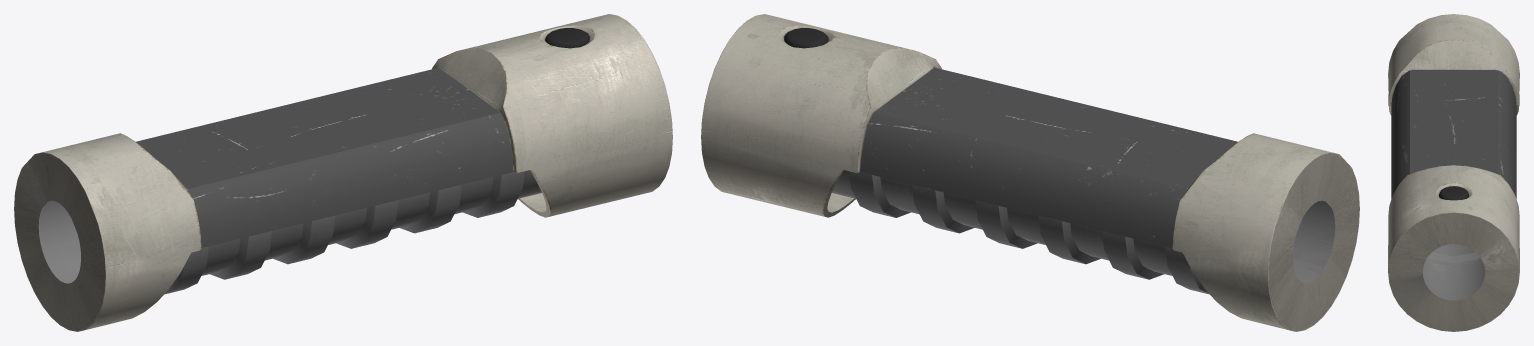
File: grip_17_r_d.glb
3 views of the same model, side by side, from view 1: azimuth 30°, elevation 25°; view 2: azimuth 150°, elevation 25°; view 3: azimuth 270°, elevation 25° (orthographic). The views are drawn at different scales.
Visible parts, largest first — view 1: grip_17_r_d_lod0; view 2: grip_17_r_d_lod0; view 3: grip_17_r_d_lod0.
Boxes of the visible parts, bbox=[...] form: grip_17_r_d_lod0: bbox=[14, 14, 672, 331]; grip_17_r_d_lod0: bbox=[701, 14, 1359, 331]; grip_17_r_d_lod0: bbox=[1388, 14, 1519, 331].
Size of what is drawn, in the model's own units: 0.1045 by 0.0293 by 0.0293.
1 material, 1 textured.
